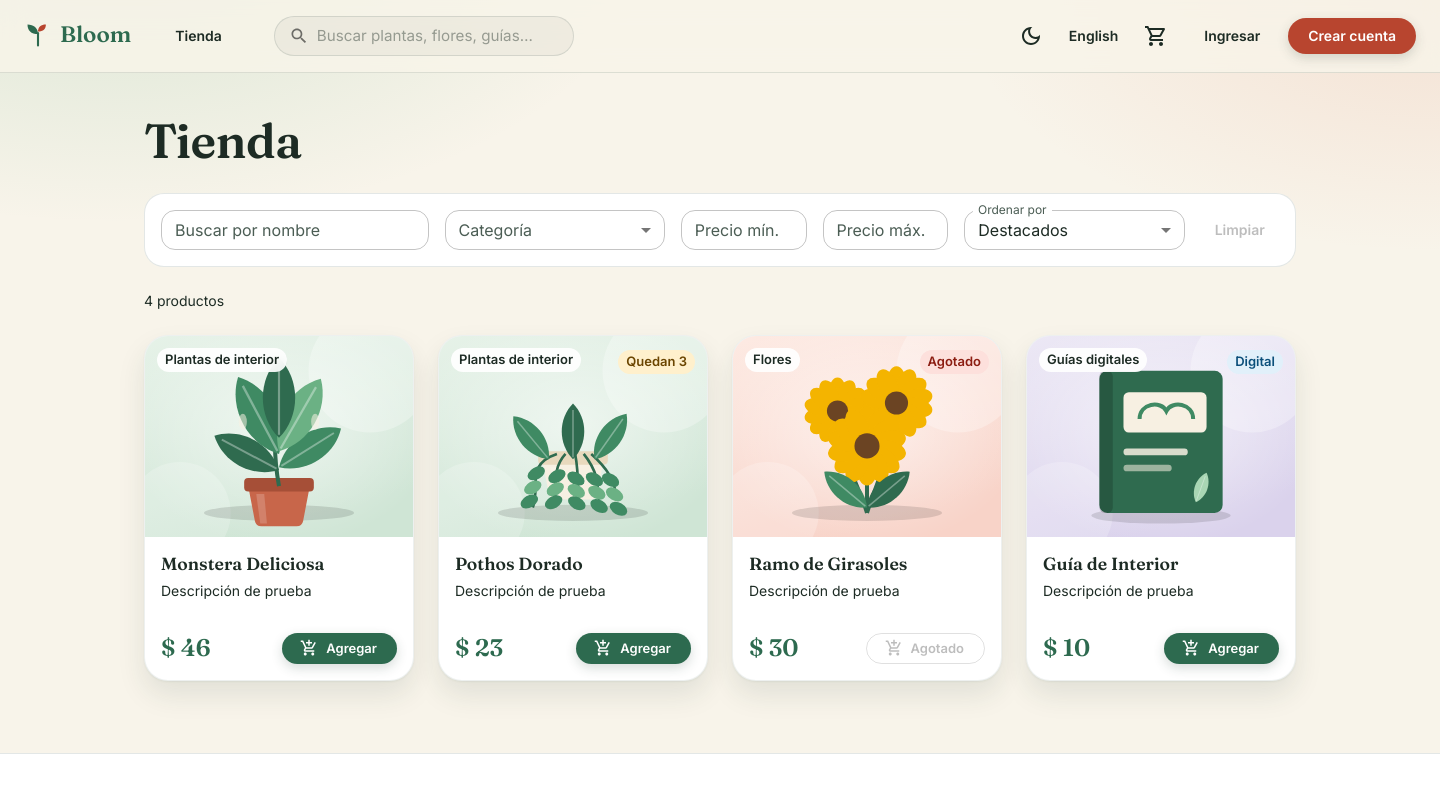
Scenario: adding to the cart › should_disable_adding_when_sold_out_or_when_everything_is_already_in_the_cart
Expected: the button with aria-label "Agotado: Ramo de Girasoles" is disabled, 866,633 -> 985,664
What coordinates should you click on to do the following:
click the button with aria-label "Agregar Guía de Interior al carrito"
I would click on:
 (1222, 648)
Its box is 1164,633 -> 1279,664.
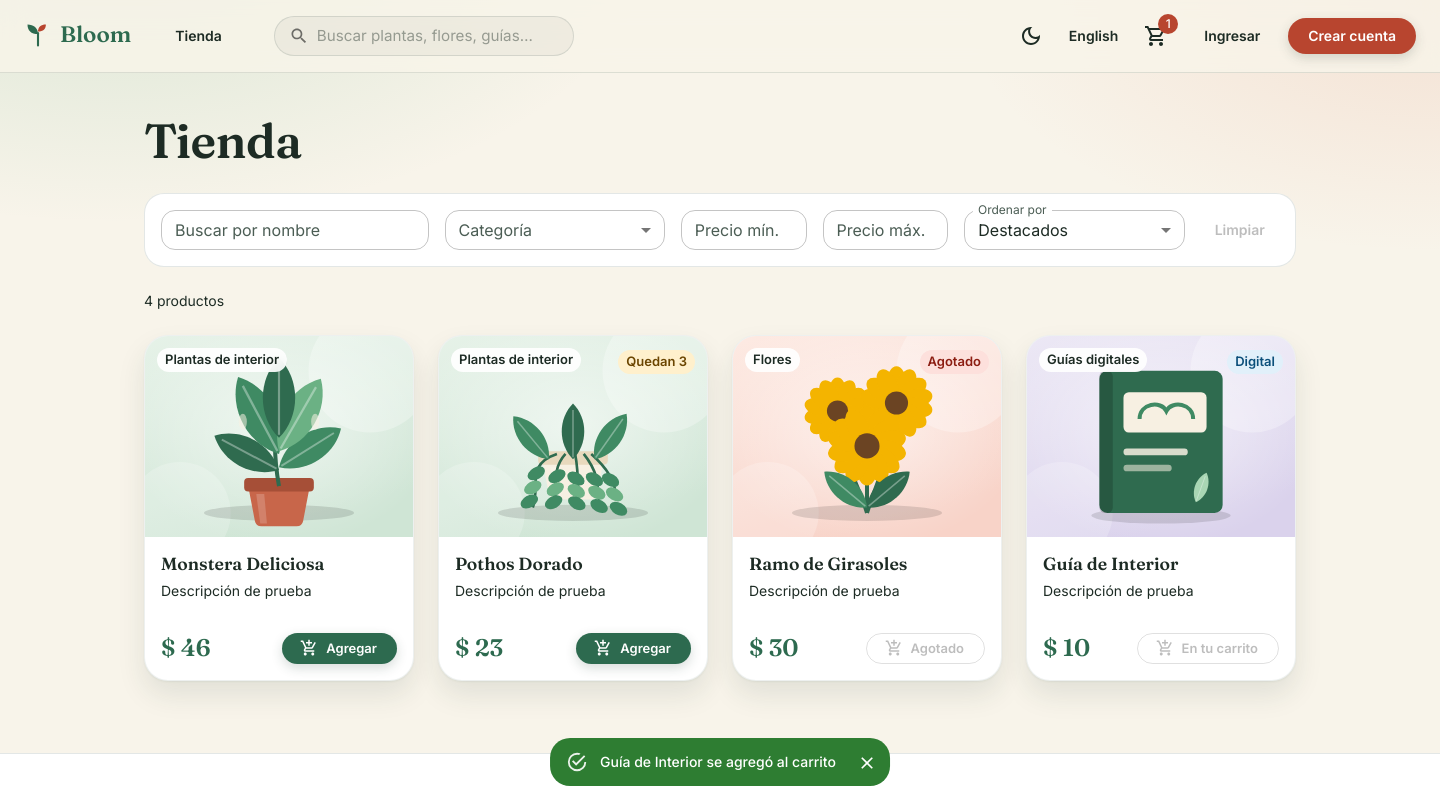
Now the button named "Agregar Guía de Interior al carrito" is disabled, box 1137,633 -> 1279,664
Now the button named "Agregar Guía de Interior al carrito" reads "En tu carrito", box 1137,633 -> 1279,664
